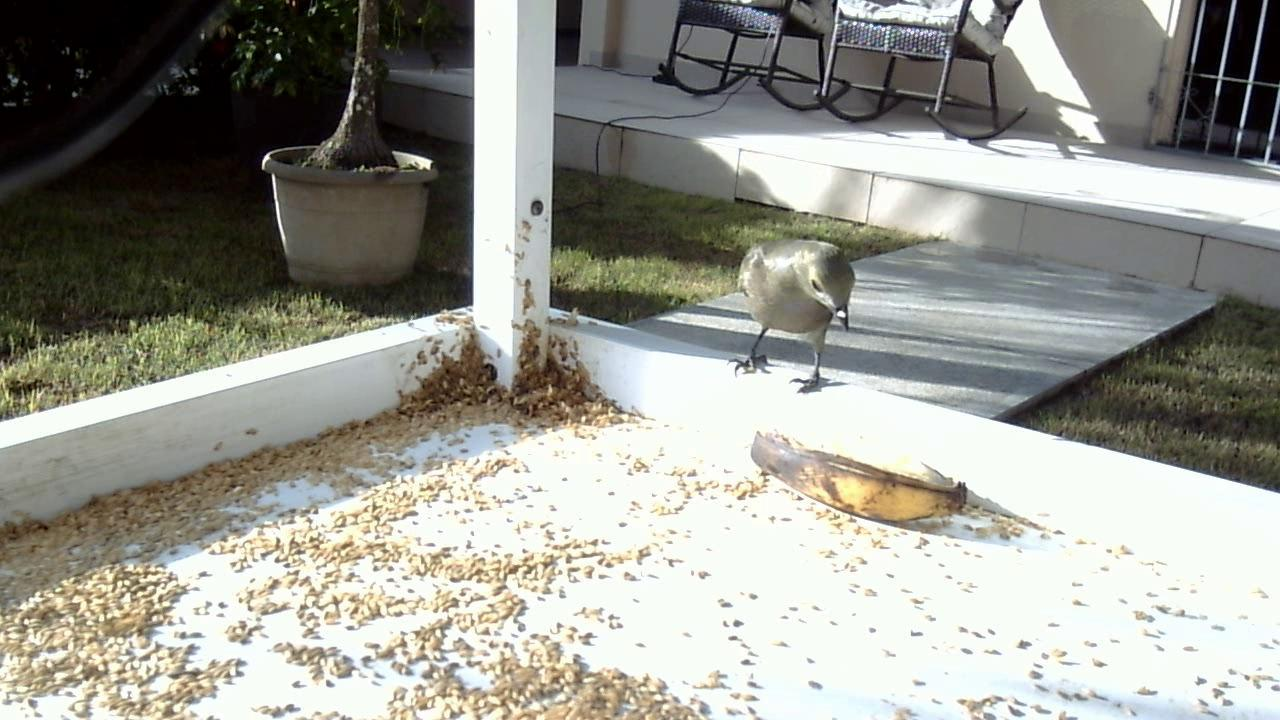sanhaco_do_coqueiro: (723, 233, 871, 393)
